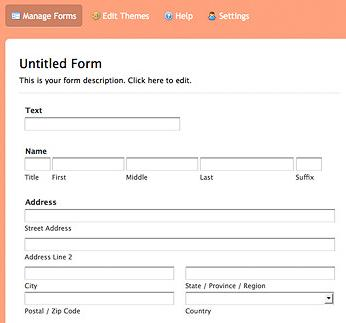field: (25, 206, 339, 224), (24, 236, 336, 251), (23, 115, 182, 134), (182, 263, 335, 279), (24, 291, 176, 306), (183, 291, 335, 305), (24, 266, 175, 280), (200, 156, 296, 172), (124, 157, 199, 173), (56, 156, 125, 172), (294, 156, 323, 173), (24, 157, 53, 173)
field_with_label: (23, 197, 341, 225), (21, 235, 337, 260), (21, 106, 184, 136), (181, 291, 337, 316), (22, 290, 177, 315), (183, 265, 336, 289), (22, 265, 176, 288), (198, 156, 295, 180), (52, 154, 126, 180), (125, 155, 200, 180), (22, 147, 52, 175), (294, 154, 325, 181)
